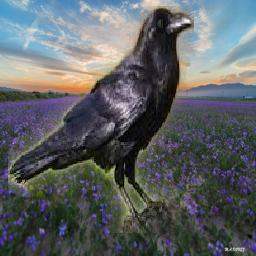Crow: (8, 7, 194, 234)
